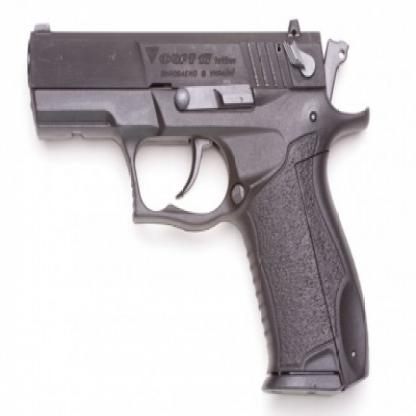Guns: (23, 19, 372, 397)
